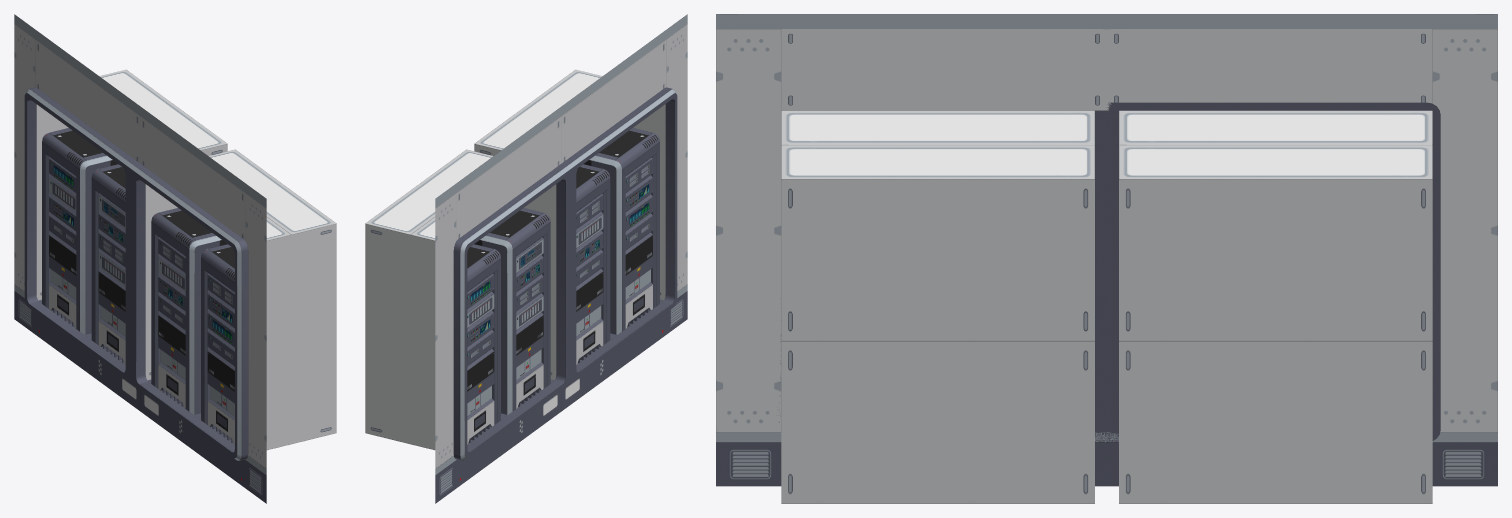
File: Interior_Wall_Computer_01.FBX
The picture shows the model from 3 angles, left to right: view 1: azimuth 30°, elevation 25°; view 2: azimuth 150°, elevation 25°; view 3: azimuth 270°, elevation 25°; orthographic projection. The views are drawn at different scales.
Parts seen in each view (by area): view 1: Interior_Wall_Computer_01, Server_03, Server_01, Server_02, Server_04; view 2: Interior_Wall_Computer_01, Server_02, Server_04, Server_03, Server_01; view 3: Interior_Wall_Computer_01.
Boxes of the visible parts, x1,y1,x2,y2 form: Interior_Wall_Computer_01: (14,14,336,503); Server_03: (151,208,227,414); Server_01: (42,128,118,334); Server_02: (91,164,125,364); Server_04: (201,244,234,444); Interior_Wall_Computer_01: (365,14,687,503); Server_02: (474,208,550,414); Server_04: (583,128,659,334); Server_03: (576,164,610,364); Server_01: (467,244,500,444); Interior_Wall_Computer_01: (716,14,1497,503).
Bounding box in the file's own units: 1.38 × 4 × 6.
